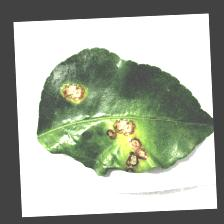canker: (55, 76, 154, 180)
